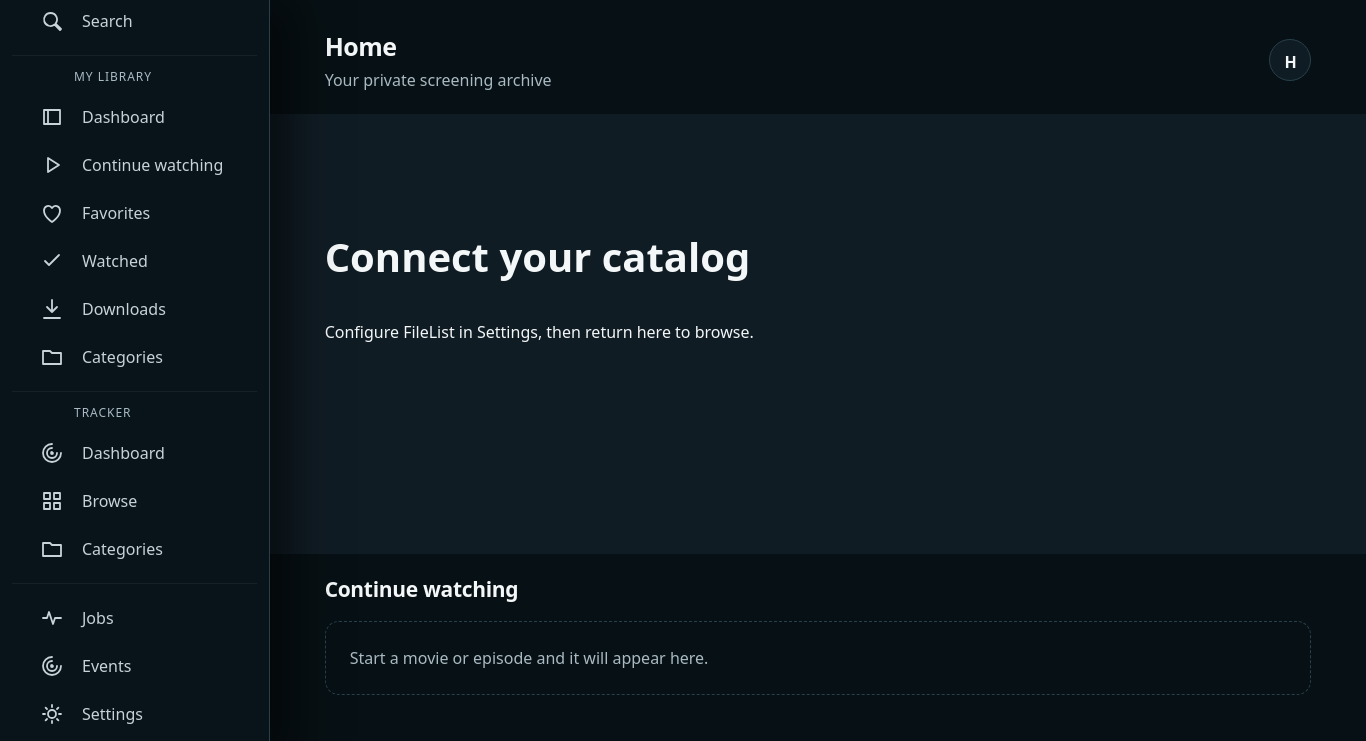
Scenario: settings tabs › runs all five connection tests from the Test tab
(page scrolled)
Click the button "Settings". click: (135, 714)
box: [12,690,258,738]
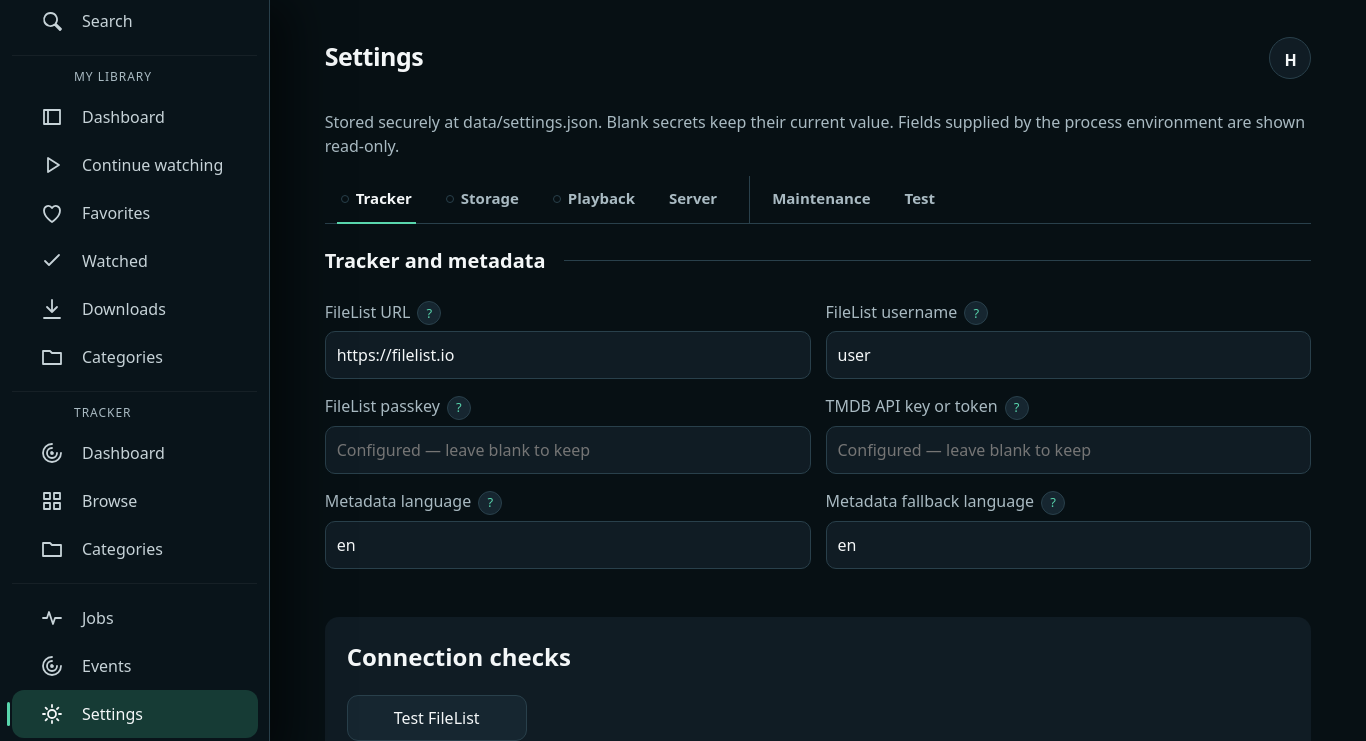
Click the tab "Test". click: (920, 199)
box: [888,176,951,222]
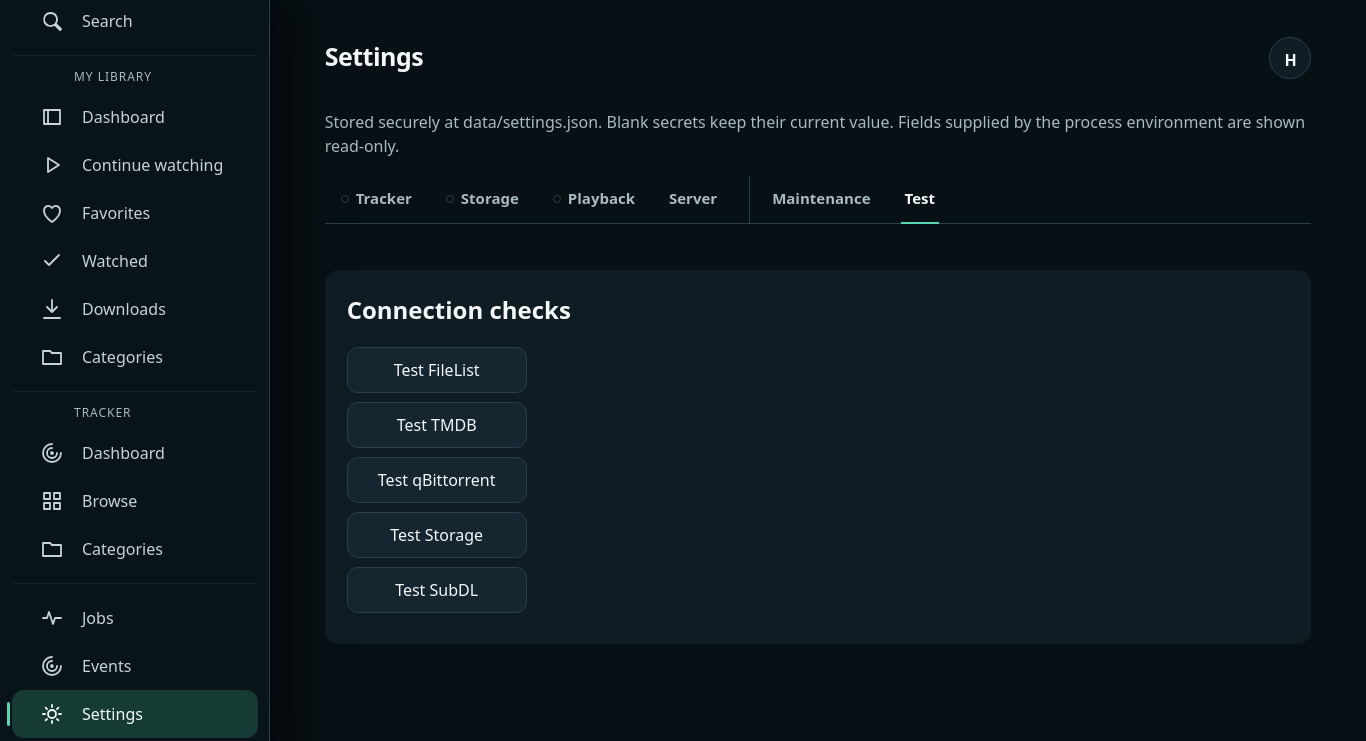
Click the button "Test SubDL". click: (437, 590)
box: [347,567,527,613]
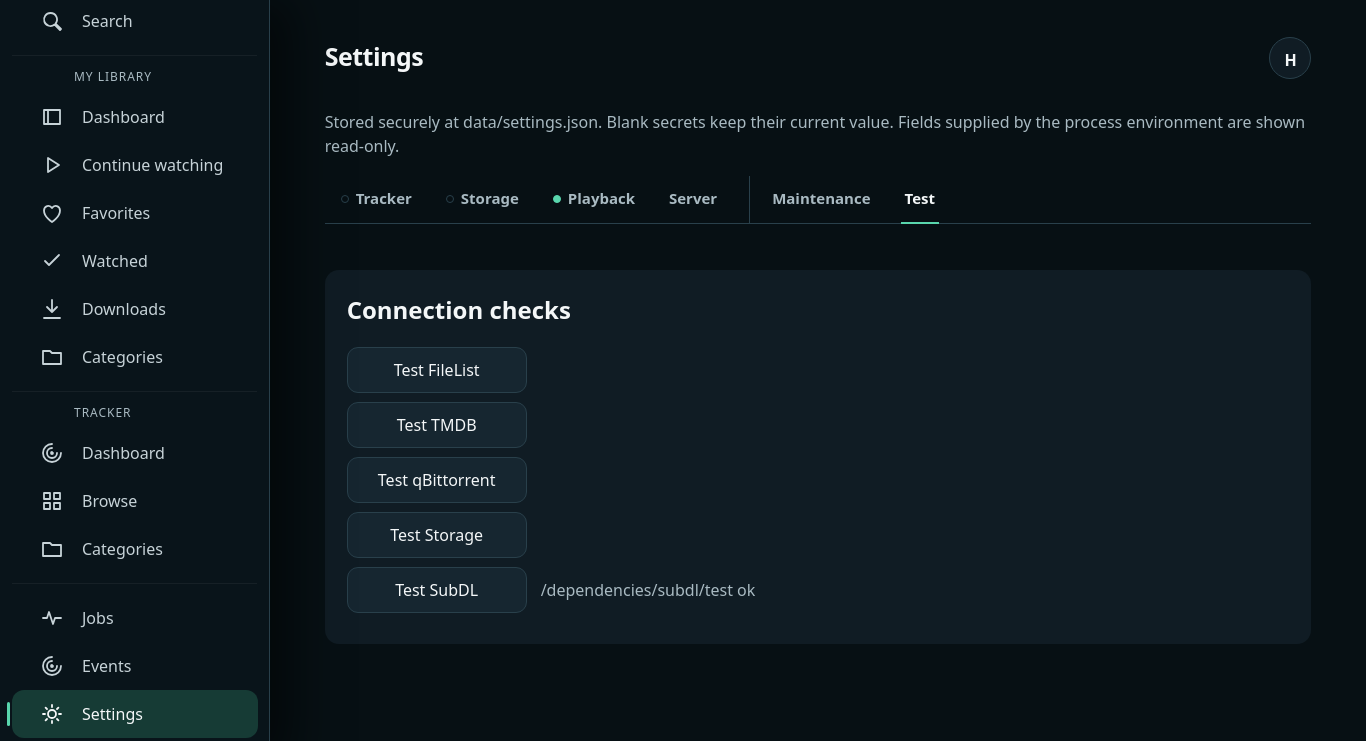
Result: the panel with class "settings-panel" shows "/dependencies/subdl/test ok" at [541,579,755,601]
